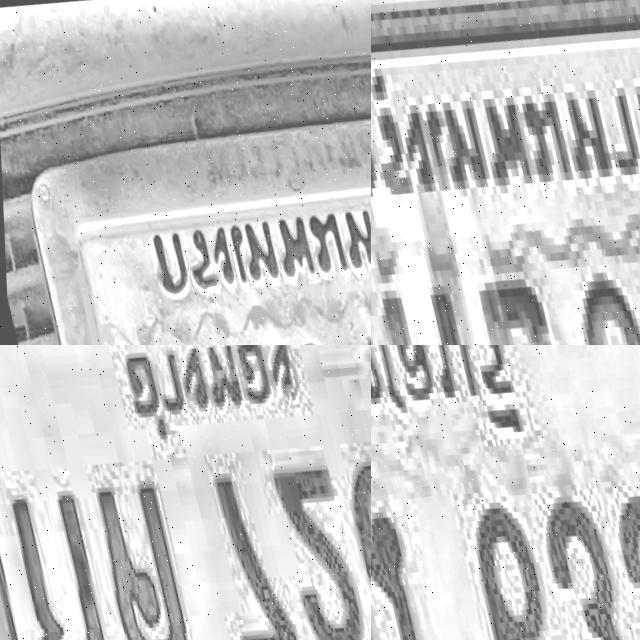license-plate: (0, 5, 371, 345), (0, 345, 371, 640), (371, 0, 640, 345), (371, 345, 640, 640)
